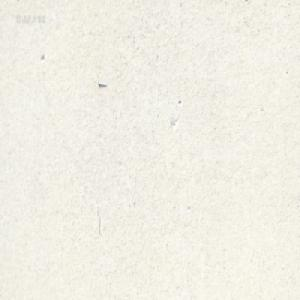Nail: (97, 80, 107, 86)
